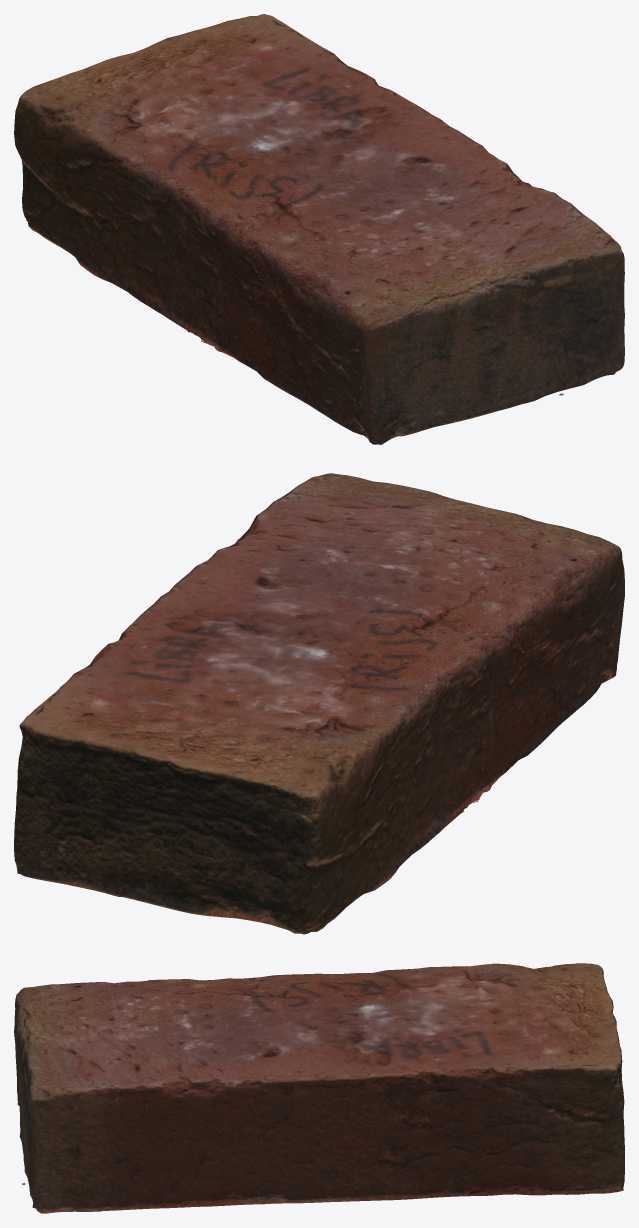
File: brick_throwable.glb
The picture shows the model from 3 angles, top to bottom: view 1: azimuth 30°, elevation 25°; view 2: azimuth 150°, elevation 25°; view 3: azimuth 270°, elevation 25°; orthographic projection. The views are drawn at different scales.
Visible parts, largest first — view 1: LIBRA1_1; view 2: LIBRA1_1; view 3: LIBRA1_1.
Part boxes in pixels (box(x1,y1,x2,y2)): LIBRA1_1: box(14, 14, 624, 444); LIBRA1_1: box(14, 473, 624, 934); LIBRA1_1: box(14, 963, 624, 1213).
Bounding box in the file's own units: 1.22 × 0.5504 × 2.29.
Materials: 1 (1 with a texture image).
